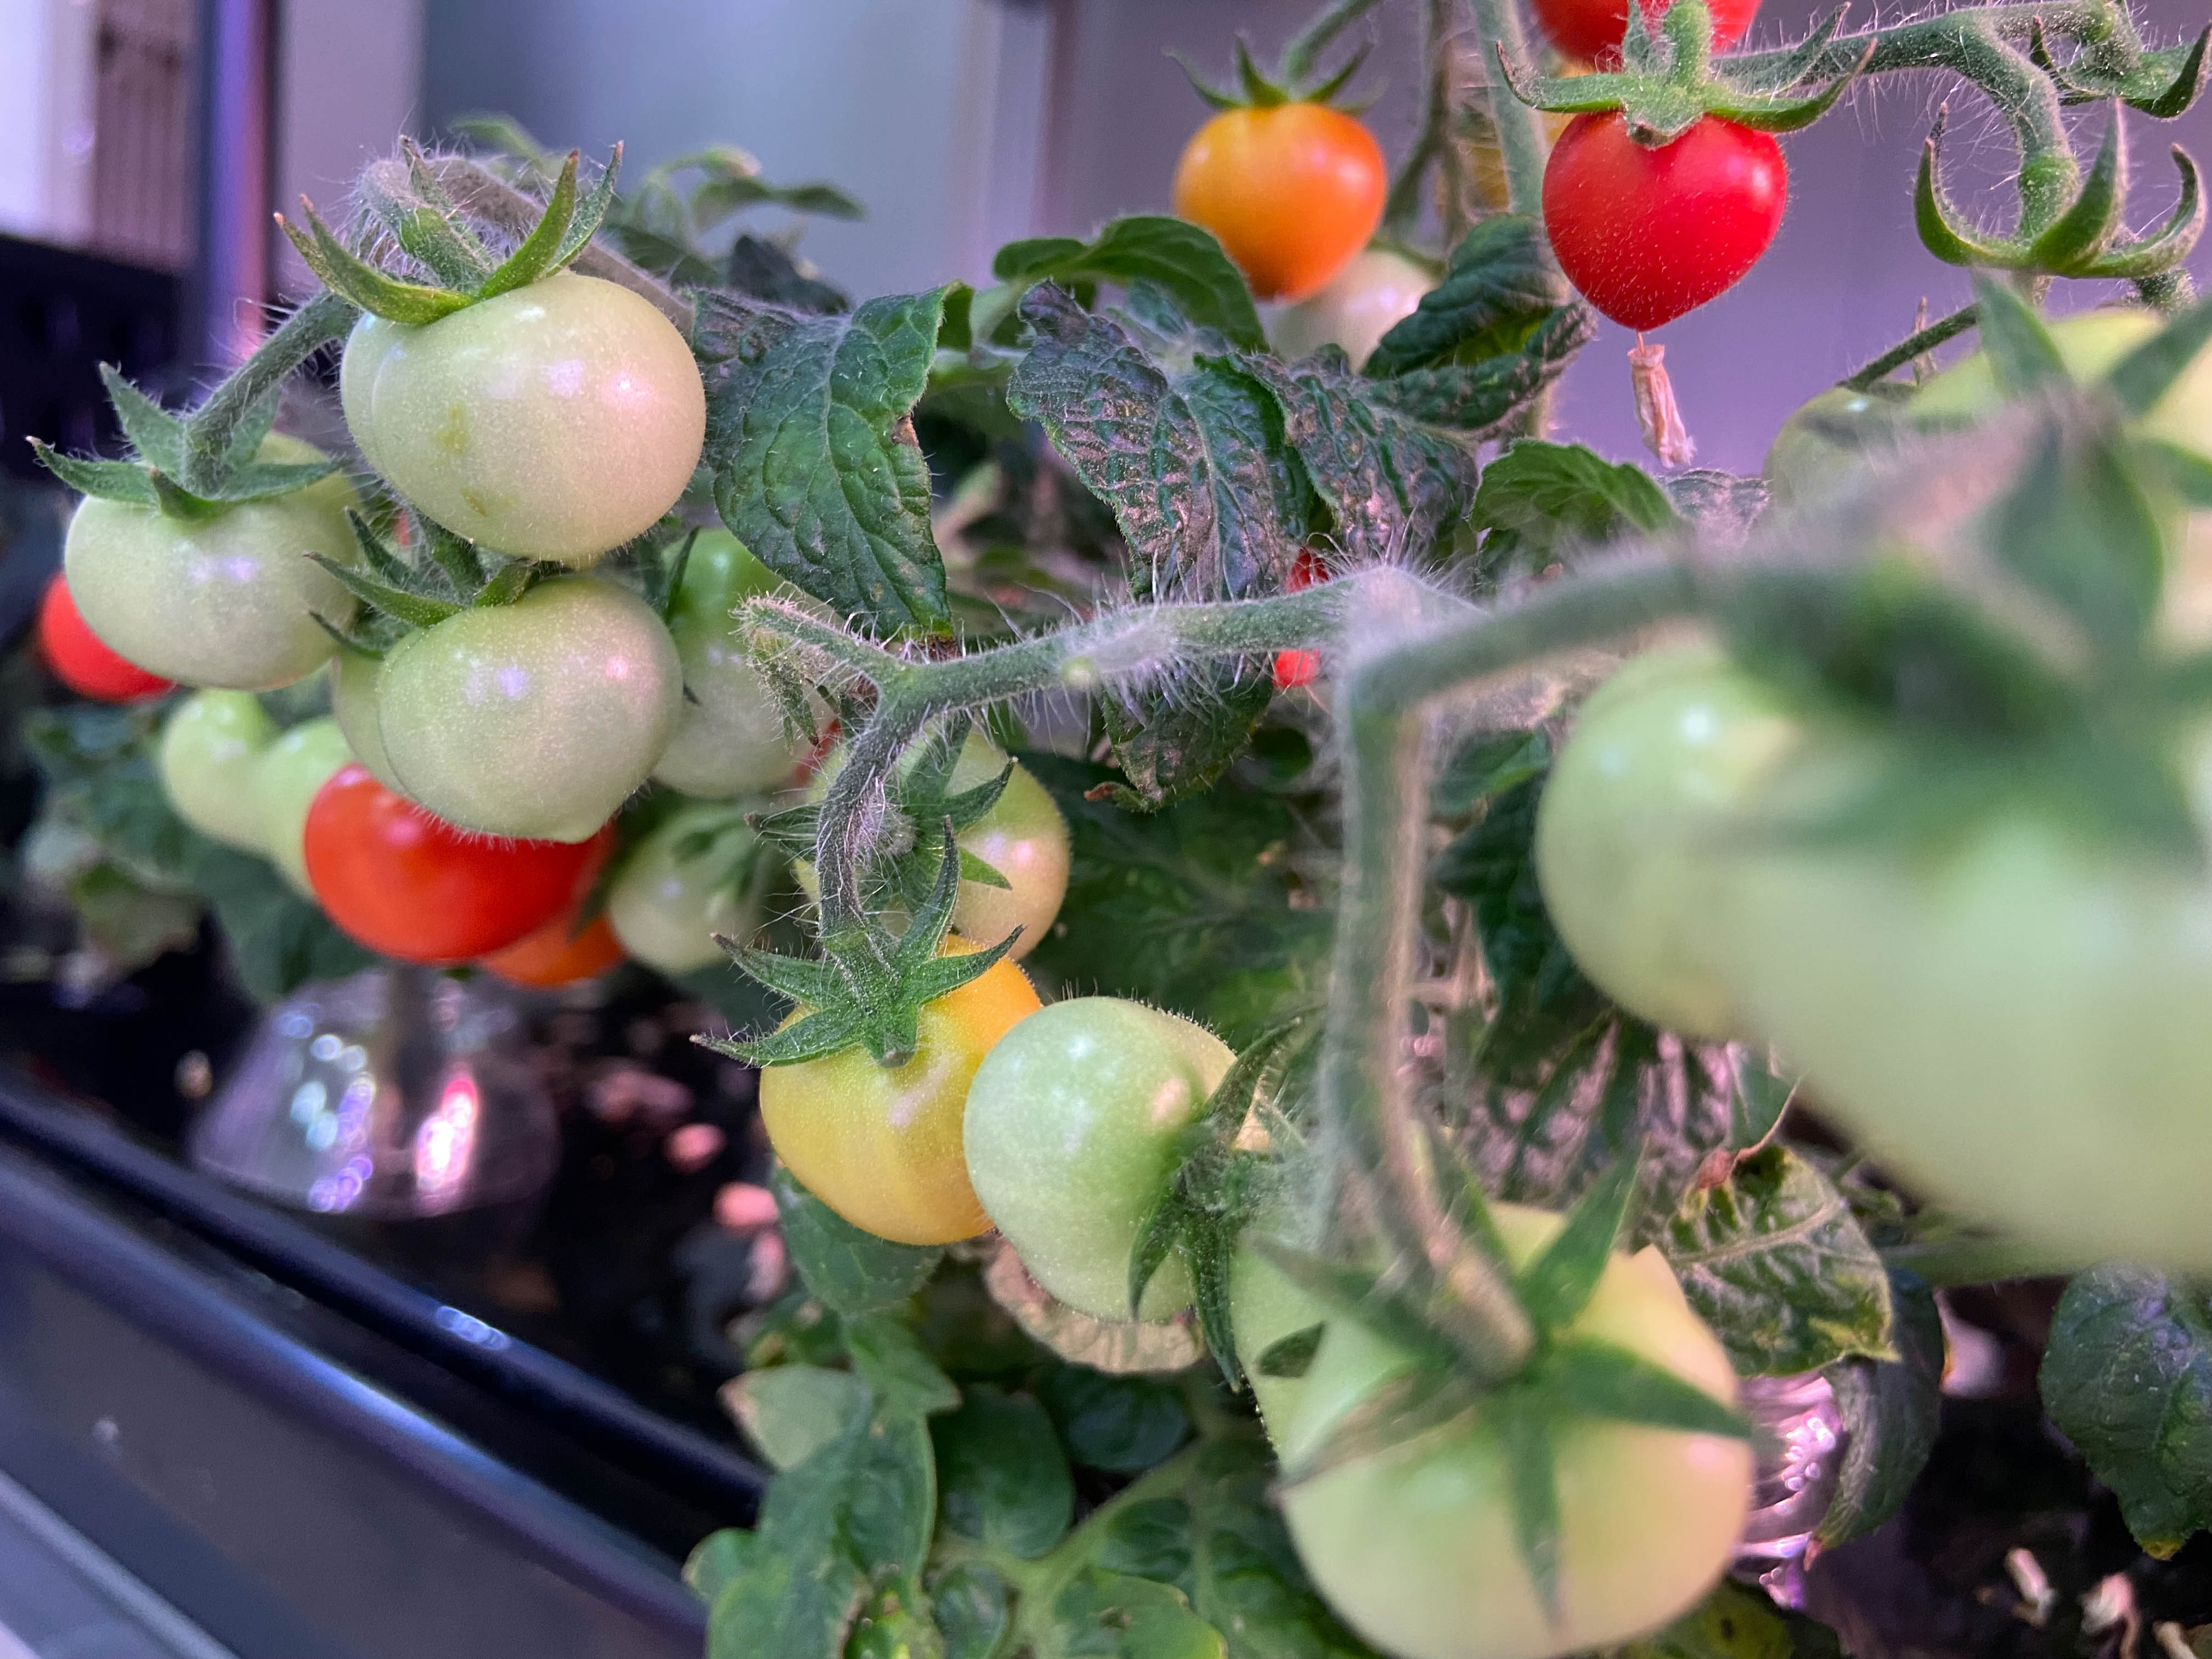green: (1677, 617, 2212, 1274), (1268, 1192, 1750, 1652), (1878, 289, 2205, 734), (1533, 617, 1808, 1035), (343, 256, 707, 559), (968, 990, 1271, 1323), (347, 570, 683, 842), (63, 434, 383, 694), (622, 525, 831, 800), (158, 688, 333, 861), (604, 810, 782, 976), (1766, 380, 1923, 547), (1301, 242, 1444, 362)
red: (758, 948, 1054, 1249), (1534, 78, 1792, 335), (296, 749, 583, 964), (843, 735, 1076, 971), (1169, 89, 1388, 296), (1245, 526, 1352, 706), (38, 566, 169, 699), (1526, 2, 1756, 75), (481, 915, 629, 990)
